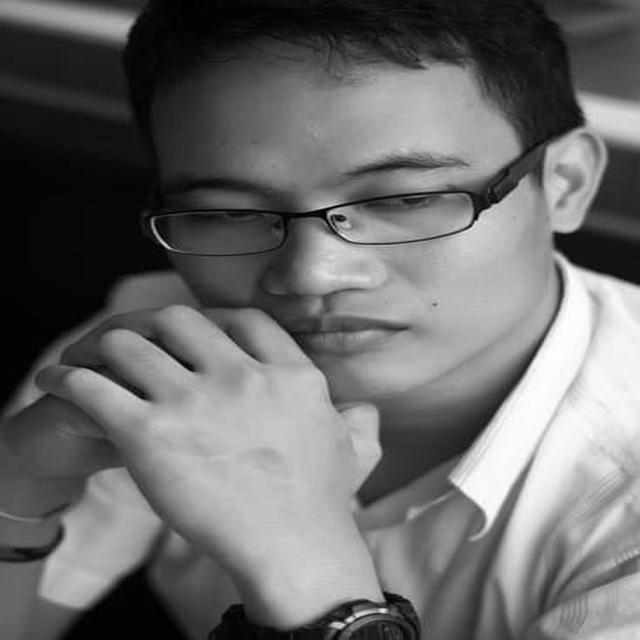Sadness: (152, 65, 482, 390)
